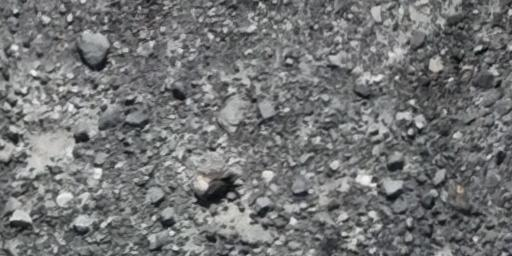skua: (178, 152, 254, 216)
